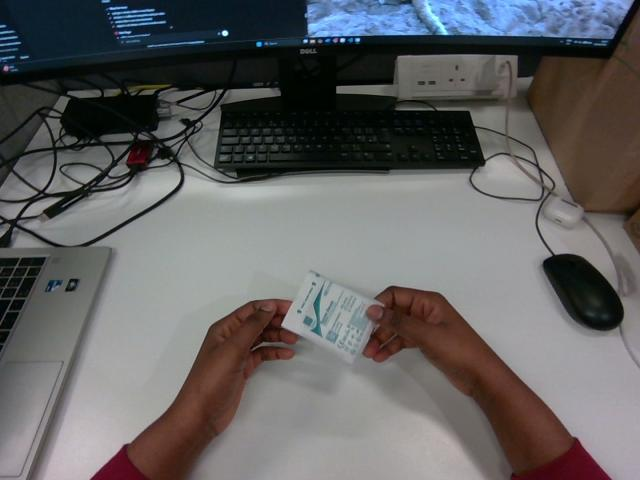gauze: (282, 271, 381, 362)
